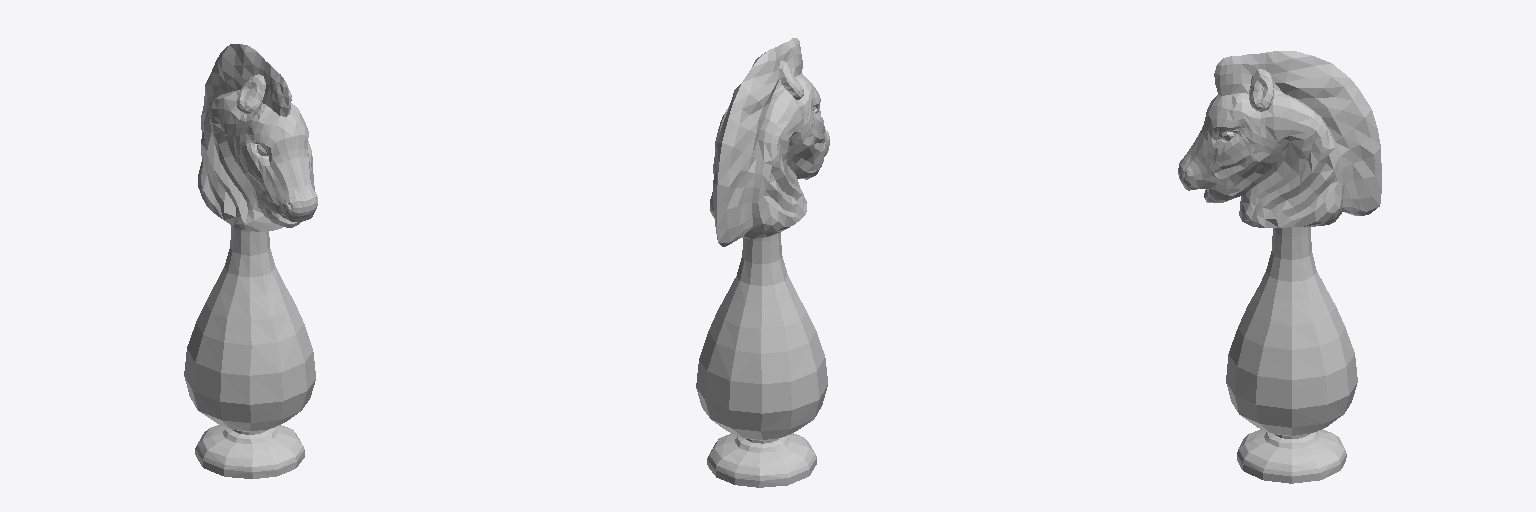
File: kon.obj
The picture shows the model from 3 angles: view 1: azimuth 30°, elevation 25°; view 2: azimuth 150°, elevation 25°; view 3: azimuth 270°, elevation 25°; orthographic projection.
Visible parts, largest first — view 1: koń.low.poly_Icosphere.012; view 2: koń.low.poly_Icosphere.012; view 3: koń.low.poly_Icosphere.012.
Part boxes in pixels (x1,y1,x2,y2): koń.low.poly_Icosphere.012: (184,44,317,478); koń.low.poly_Icosphere.012: (696,38,829,487); koń.low.poly_Icosphere.012: (1178,51,1381,483).
Bounding box in the file's own units: 1.23 × 4.21 × 1.89.